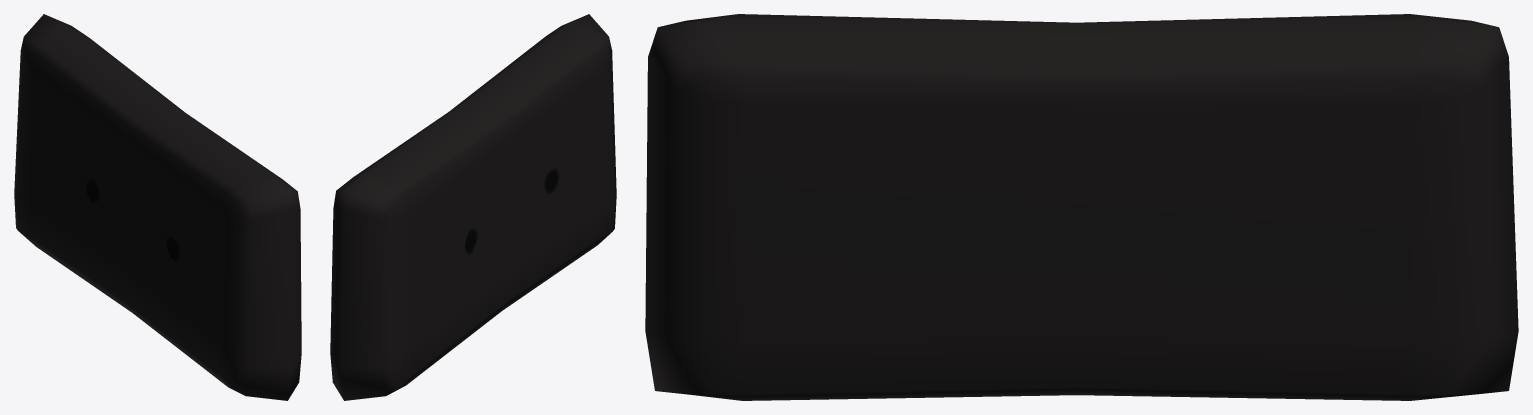
Rendered from sohva_tyyny.fbx.
3 renders of one model, left to right at view 1: azimuth 30°, elevation 25°; view 2: azimuth 150°, elevation 25°; view 3: azimuth 270°, elevation 25°, orthographic. The views are drawn at different scales.
Visible parts, largest first — view 1: tyyny; view 2: tyyny; view 3: tyyny.
Boxes of the visible parts, left/top/right/bottom form: tyyny: left=14, top=14, right=301, bottom=400; tyyny: left=330, top=14, right=616, bottom=400; tyyny: left=645, top=14, right=1518, bottom=400.
Size of the model in its own units: 10.56 by 30.74 by 64.51.
1 material, 1 textured.
